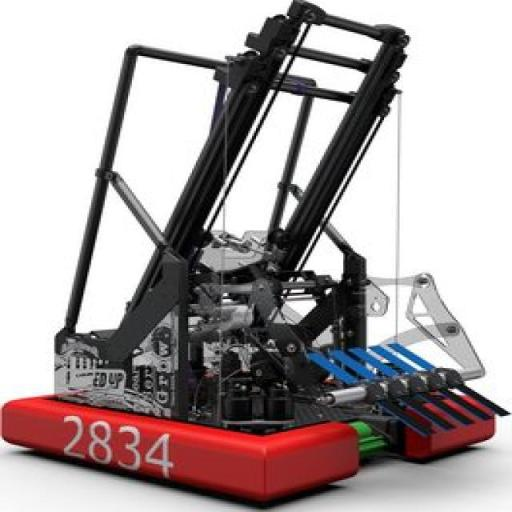robot: (0, 6, 512, 512)
